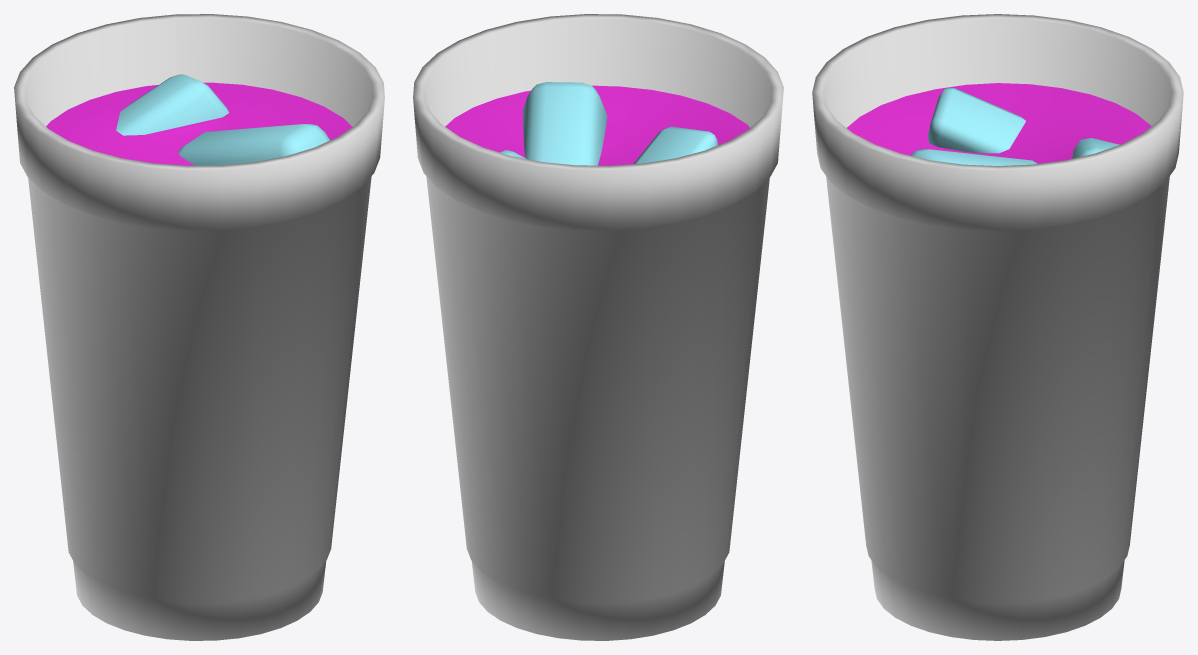
The model's file is lean_cup.glb.
3 renders of one model, left to right at view 1: azimuth 30°, elevation 25°; view 2: azimuth 150°, elevation 25°; view 3: azimuth 270°, elevation 25°, orthographic.
Parts seen in each view (by area): view 1: Cylinder.001; view 2: Cylinder.001; view 3: Cylinder.001.
Part boxes in pixels (box(x1,y1,x2,y2)): Cylinder.001: box(14, 14, 384, 640); Cylinder.001: box(413, 14, 783, 640); Cylinder.001: box(812, 14, 1183, 640).
Bounding box in the file's own units: 0.556 × 0.8194 × 0.556.
